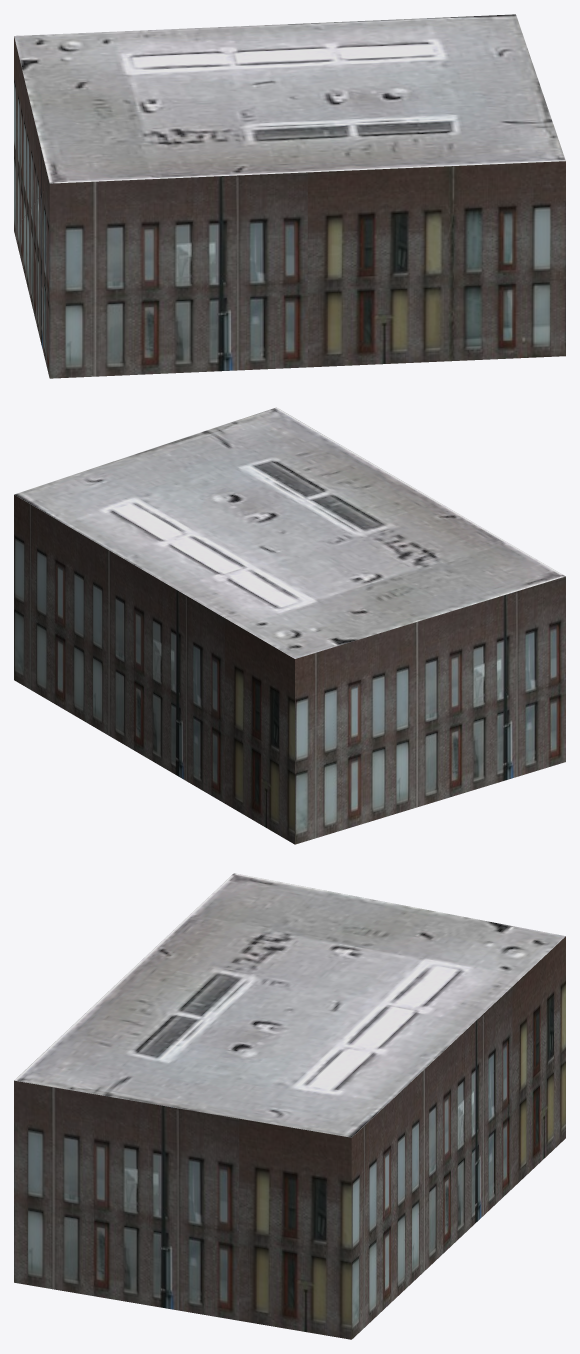
The model's file is EduTex__7.fbx.
3 views of the same model, one above another, from view 1: azimuth 30°, elevation 25°; view 2: azimuth 150°, elevation 25°; view 3: azimuth 270°, elevation 25° (orthographic). The views are drawn at different scales.
Parts seen in each view (by area): view 1: CityEngineMaterial_5_m, CityEngineMaterial_10_m; view 2: CityEngineMaterial_5_m, CityEngineMaterial_10_m; view 3: CityEngineMaterial_5_m, CityEngineMaterial_10_m.
Part boxes in pixels (x1,y1,x2,y2): CityEngineMaterial_5_m: (14, 37, 565, 378); CityEngineMaterial_10_m: (14, 14, 565, 183); CityEngineMaterial_5_m: (14, 495, 565, 844); CityEngineMaterial_10_m: (14, 407, 565, 658); CityEngineMaterial_5_m: (14, 936, 565, 1339); CityEngineMaterial_10_m: (14, 873, 565, 1137).
Bounding box in the file's own units: 16.85 × 6 × 14.85.
Materials: 2 (2 with a texture image).
